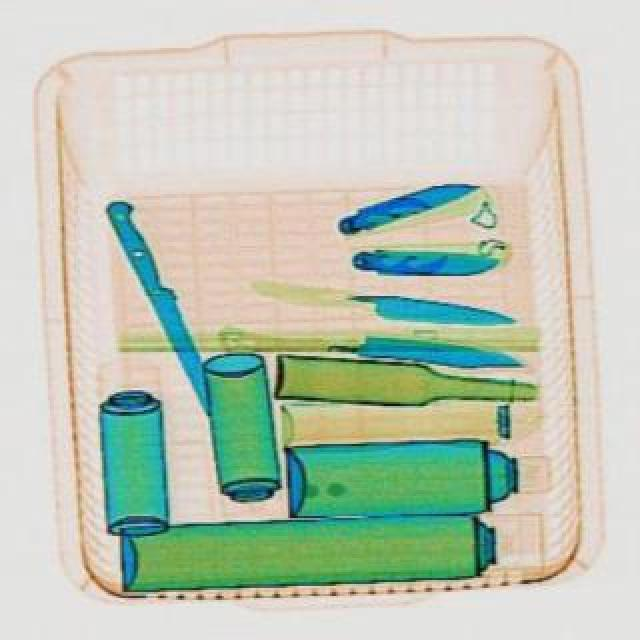knife: (100, 196, 228, 416), (326, 166, 482, 240), (344, 286, 516, 334), (350, 332, 526, 372), (350, 244, 500, 278)
